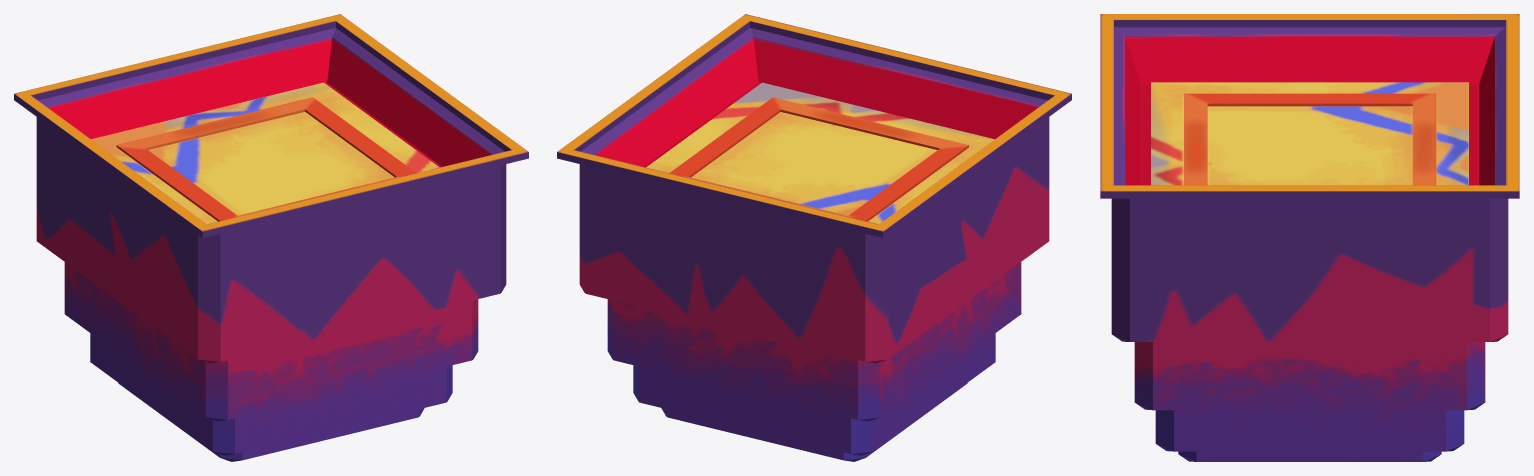
The model's file is Arena Texturizada.fbx.
3 renders of one model, left to right at view 1: azimuth 30°, elevation 25°; view 2: azimuth 150°, elevation 25°; view 3: azimuth 270°, elevation 25°, orthographic. The views are drawn at different scales.
Parts seen in each view (by area): view 1: Arena; view 2: Arena; view 3: Arena.
Boxes of the visible parts, left/top/right/bottom form: Arena: left=14, top=14, right=528, bottom=461; Arena: left=557, top=14, right=1071, bottom=461; Arena: left=1100, top=14, right=1519, bottom=461.
Bounding box in the file's own units: 2714 × 2296 × 2714.
Materials: 3 (3 with a texture image).
